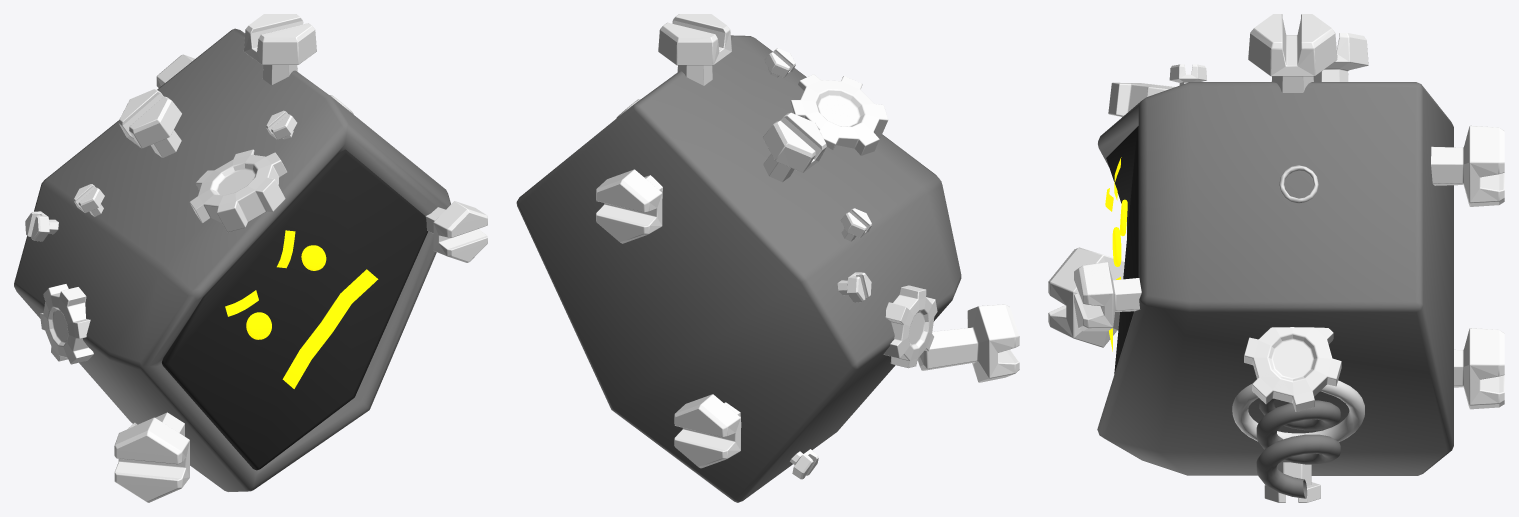
The model's file is handhead stage 3.fbx.
The picture shows the model from 3 angles, left to right: view 1: azimuth 30°, elevation 25°; view 2: azimuth 150°, elevation 25°; view 3: azimuth 270°, elevation 25°; orthographic projection. The views are drawn at different scales.
Parts seen in each view (by area): view 1: Cube.003, Cube.004, Plane.007, Circle.006, Circle.005; view 2: Cube.003; view 3: Cube.003, Circle.004, Cube.004, Torus.004, Torus.003.
Part boxes in pixels (x1,y1,x2,y2): Cube.003: (14, 14, 487, 502); Cube.004: (162, 149, 428, 470); Plane.007: (282, 269, 378, 388); Circle.006: (246, 312, 271, 339); Circle.005: (301, 245, 326, 270); Cube.003: (516, 14, 1019, 502); Cube.003: (1048, 14, 1504, 502); Circle.004: (1256, 398, 1340, 498); Cube.004: (1106, 126, 1138, 373); Torus.004: (1232, 380, 1364, 441); Torus.003: (1279, 165, 1318, 203).
Bounding box in the file's own units: 289 × 289 × 238.
